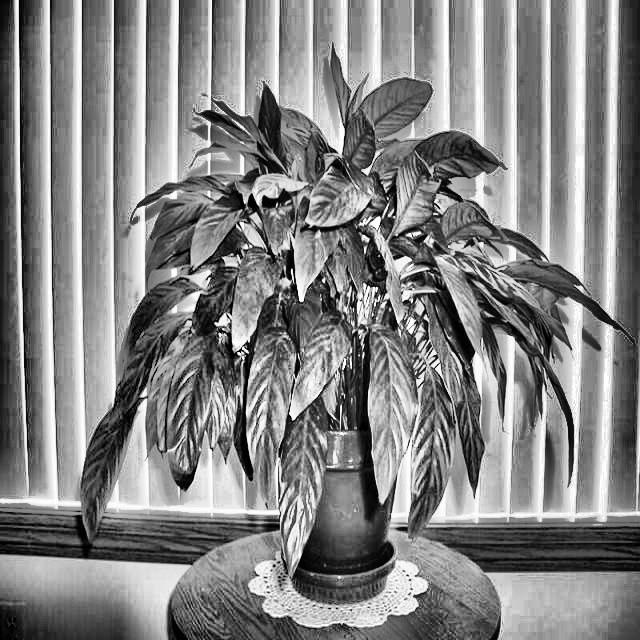plants: (68, 66, 630, 601), (428, 293, 494, 498), (112, 278, 202, 366)
